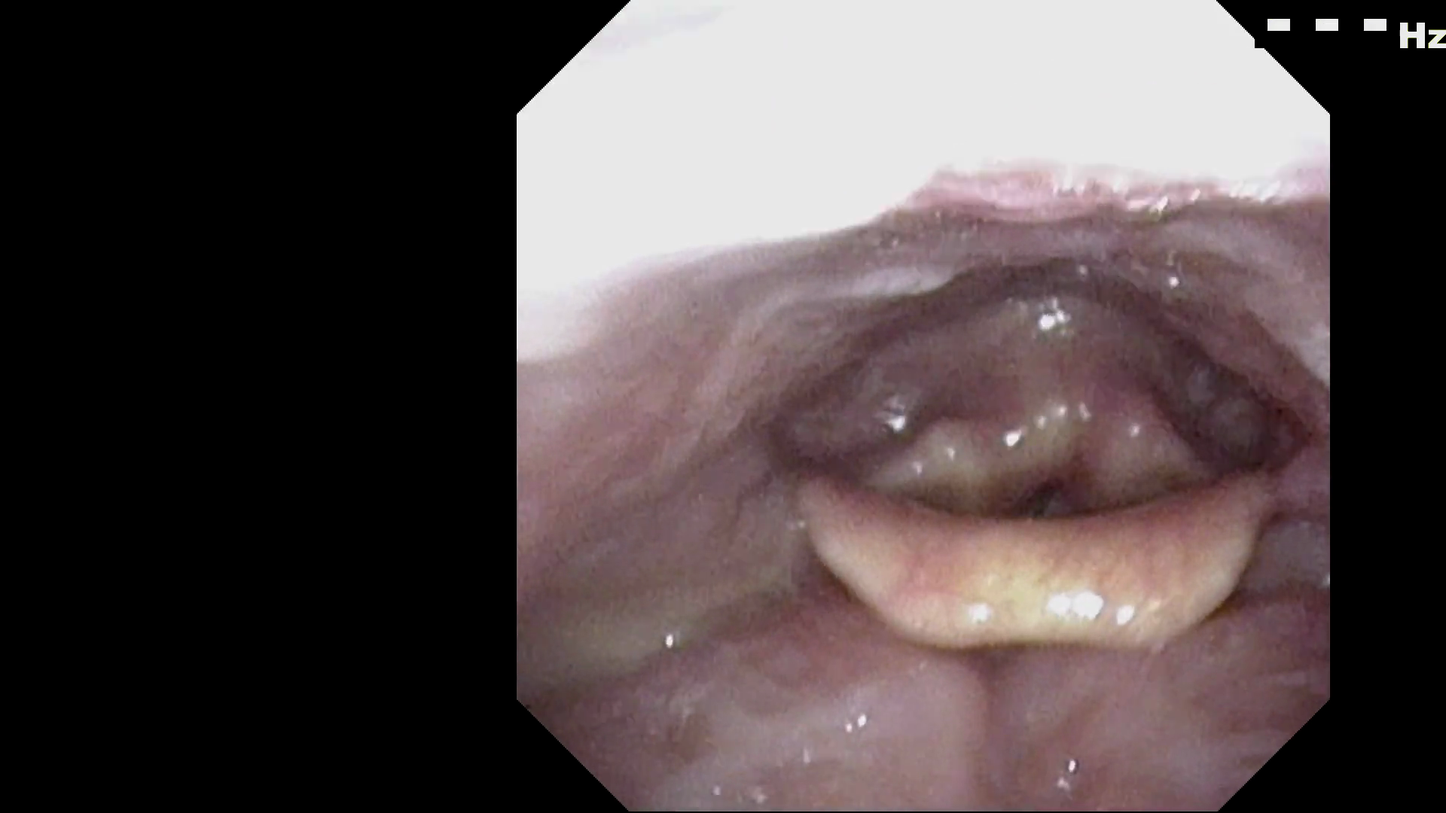epiglottis: (781, 445, 1306, 684)
trachea: (974, 400, 1120, 554)
